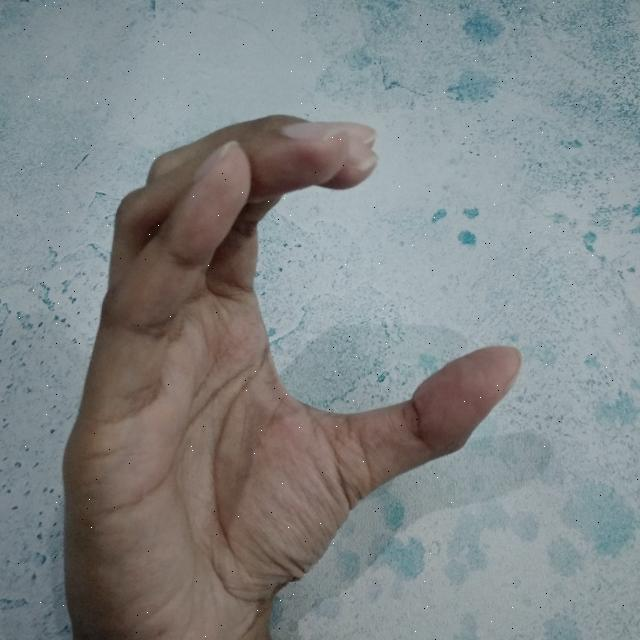C: (60, 110, 522, 640)
